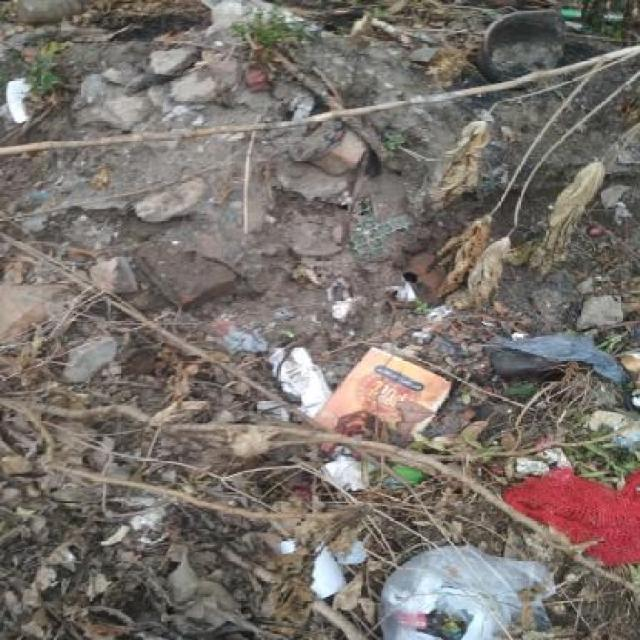garbage: (8, 9, 631, 636)
